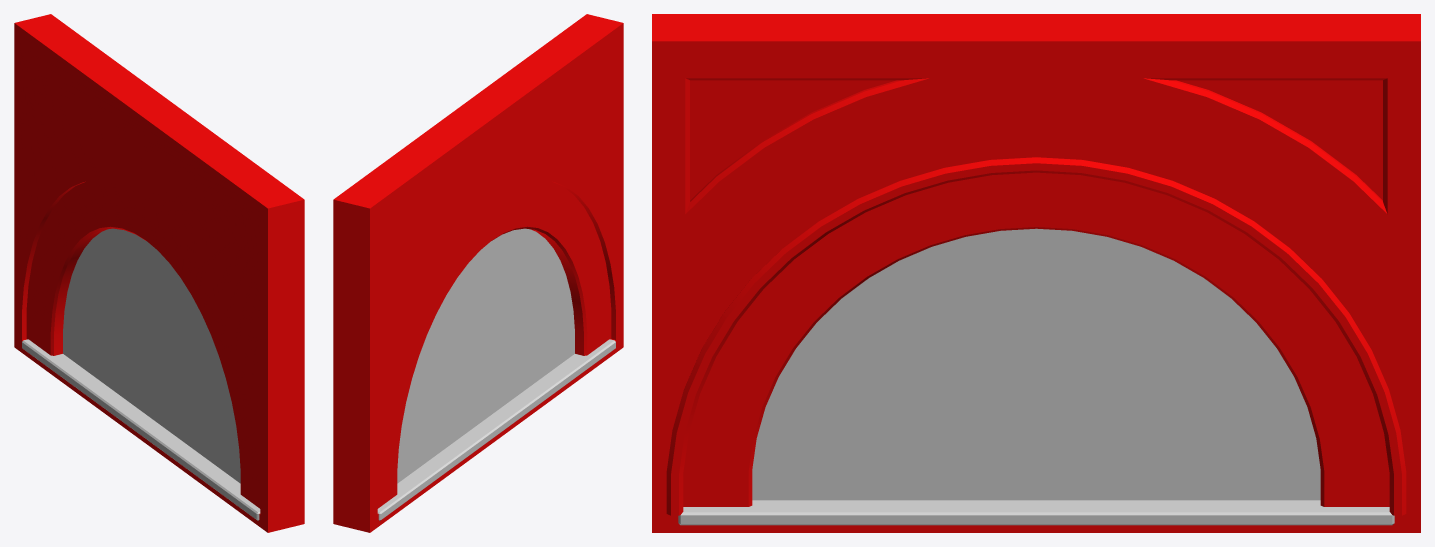
Rendered from Ruins_Wall_window.fbx.
3 views of the same model, side by side, from view 1: azimuth 30°, elevation 25°; view 2: azimuth 150°, elevation 25°; view 3: azimuth 270°, elevation 25° (orthographic). The views are drawn at different scales.
Visible parts, largest first — view 1: Ruins_Wall_window; view 2: Ruins_Wall_window; view 3: Ruins_Wall_window.
Part boxes in pixels (bbox=[...]): Ruins_Wall_window: bbox=[14, 14, 304, 532]; Ruins_Wall_window: bbox=[333, 14, 623, 532]; Ruins_Wall_window: bbox=[652, 14, 1420, 532].
Bounding box in the file's own units: 0.1597 × 1.2 × 1.7.
